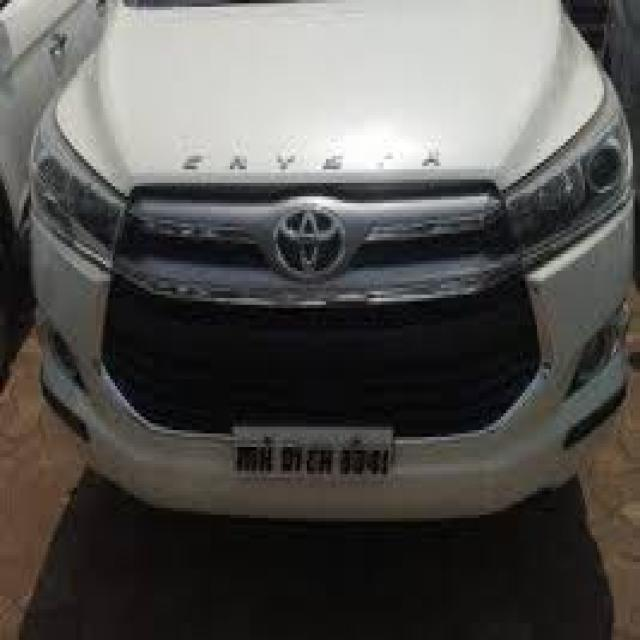light_vehicle: (29, 0, 634, 522)
